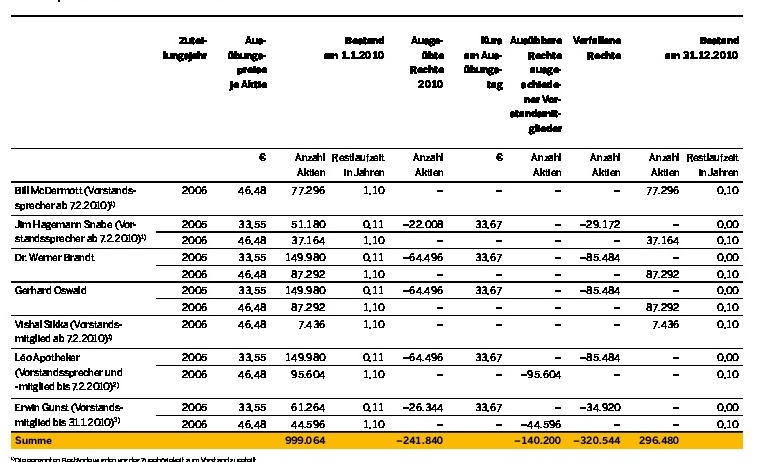table: (0, 0, 758, 462)
